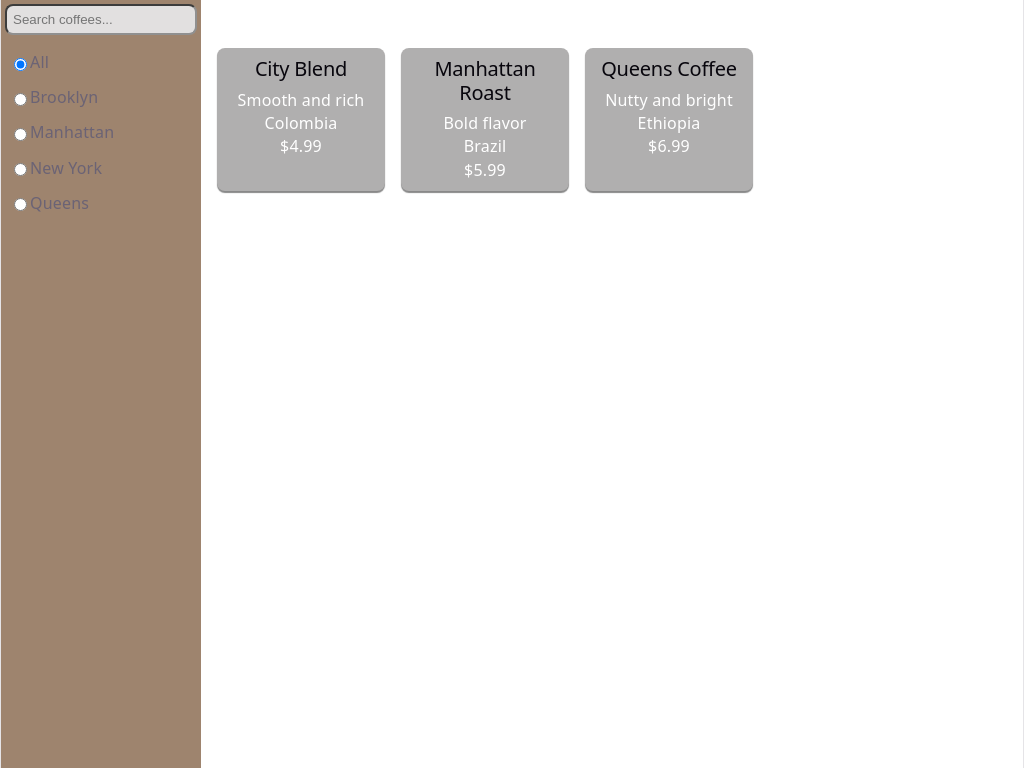
ShopPage › filters coffees by selected location
What coordinates should you click on to do the following:
click the radio button labelled "Brooklyn"
I would click on:
 (20, 99)
Its box is [14, 93, 27, 106].
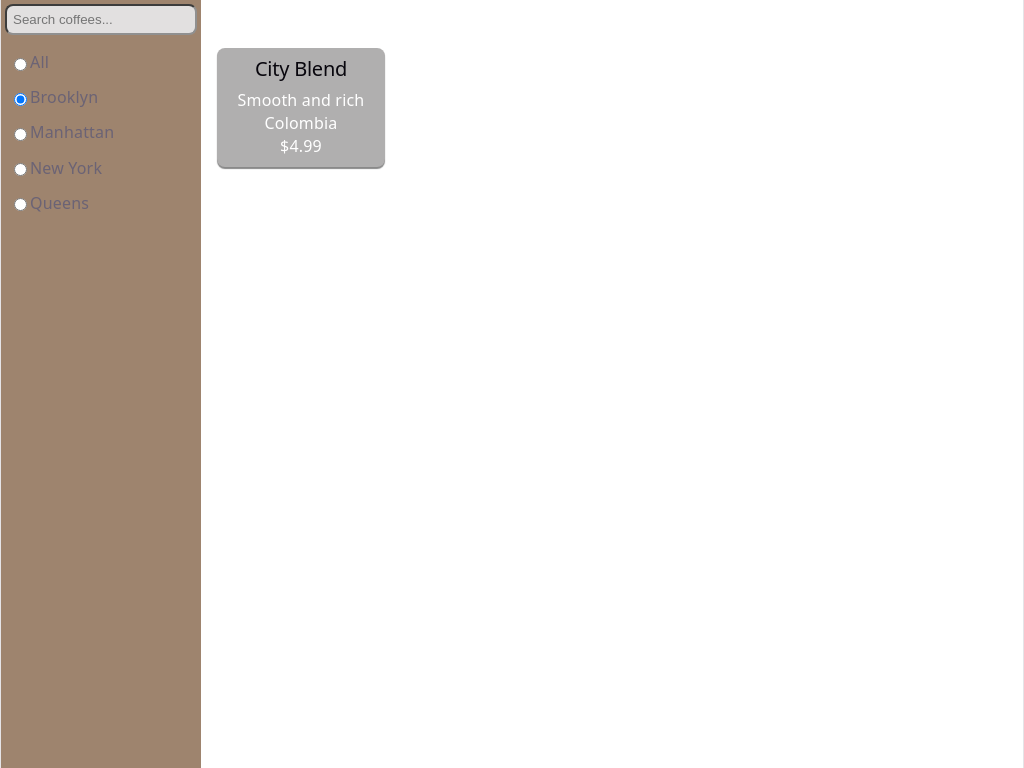
Expected: the heading "City Blend" is shown, [255, 55, 347, 82]
Expected: the heading "Manhattan Roast" is gone
Expected: the heading "Queens Coffee" is gone
